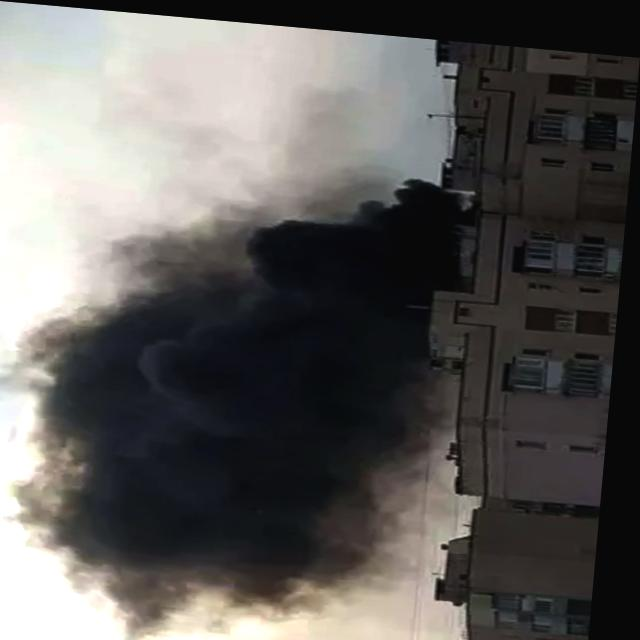no_helmet: (0, 144, 463, 640)
